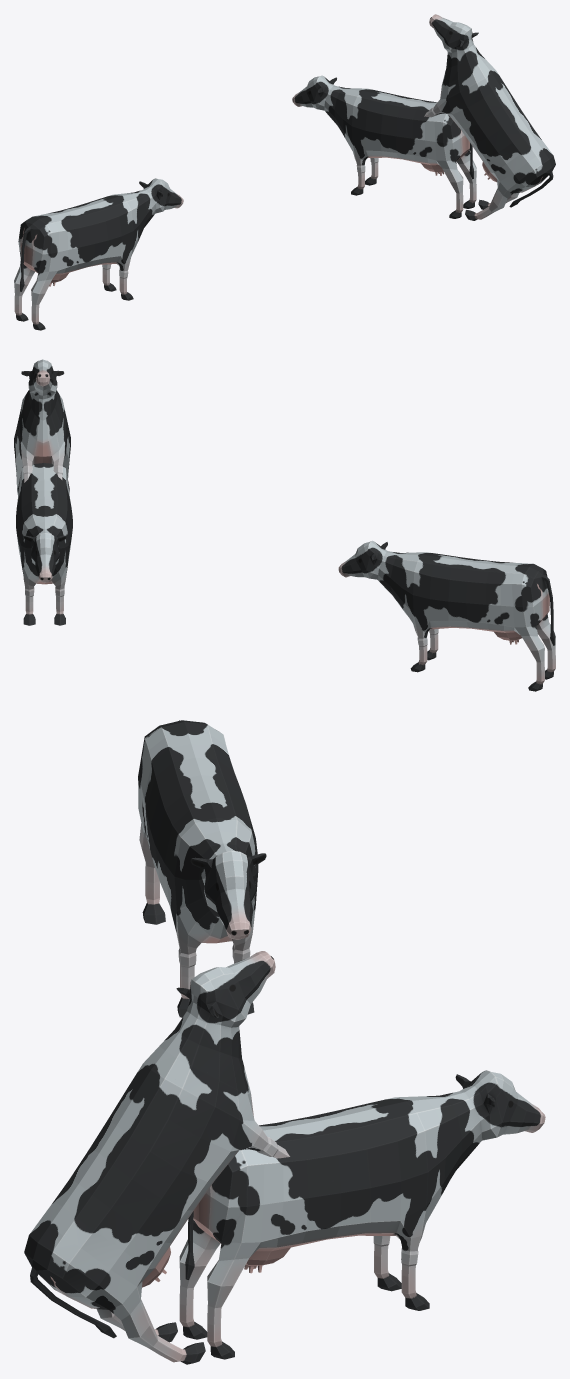
File: vacas_indian_room.glb
3 views of the same model, one above another, from view 1: azimuth 30°, elevation 25°; view 2: azimuth 150°, elevation 25°; view 3: azimuth 270°, elevation 25° (orthographic). The views are drawn at different scales.
Visible parts, largest first — view 1: Cow_mesh.002, Cow_mesh, Cow_mesh.001; view 2: Cow_mesh, Cow_mesh.001, Cow_mesh.002; view 3: Cow_mesh.002, Cow_mesh.001, Cow_mesh.
Part boxes in pixels (<box>): Cow_mesh.002: <box>424,14,555,220</box>; Cow_mesh: <box>14,178,183,330</box>; Cow_mesh.001: <box>292,75,476,218</box>; Cow_mesh: <box>338,540,555,691</box>; Cow_mesh.001: <box>16,463,72,625</box>; Cow_mesh.002: <box>14,359,70,494</box>; Cow_mesh.002: <box>24,951,289,1364</box>; Cow_mesh.001: <box>179,1070,545,1359</box>; Cow_mesh: <box>138,720,266,1017</box>.
Bounding box in the file's own units: 61.94 × 22.13 × 27.57.
1 material, 1 textured.
